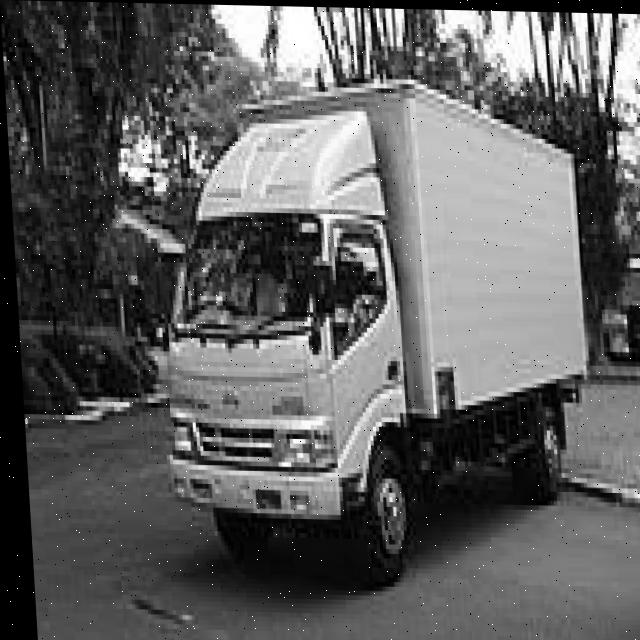truck: (113, 88, 459, 596)
